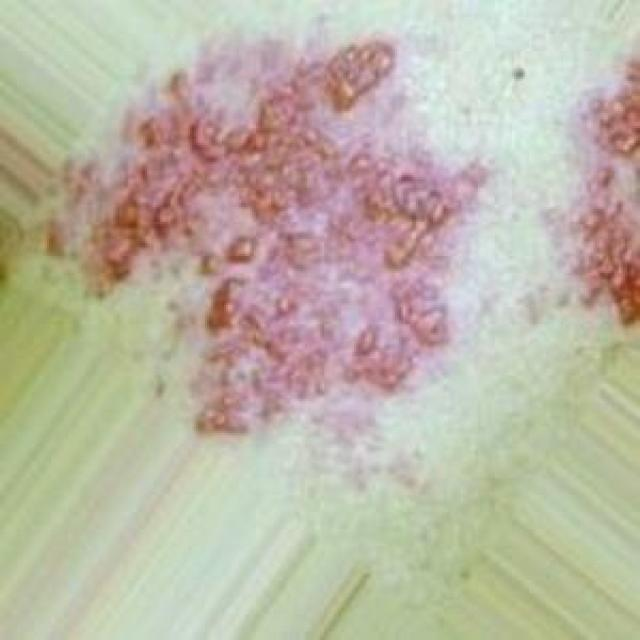Shingles: (45, 38, 494, 436), (555, 54, 640, 334)
